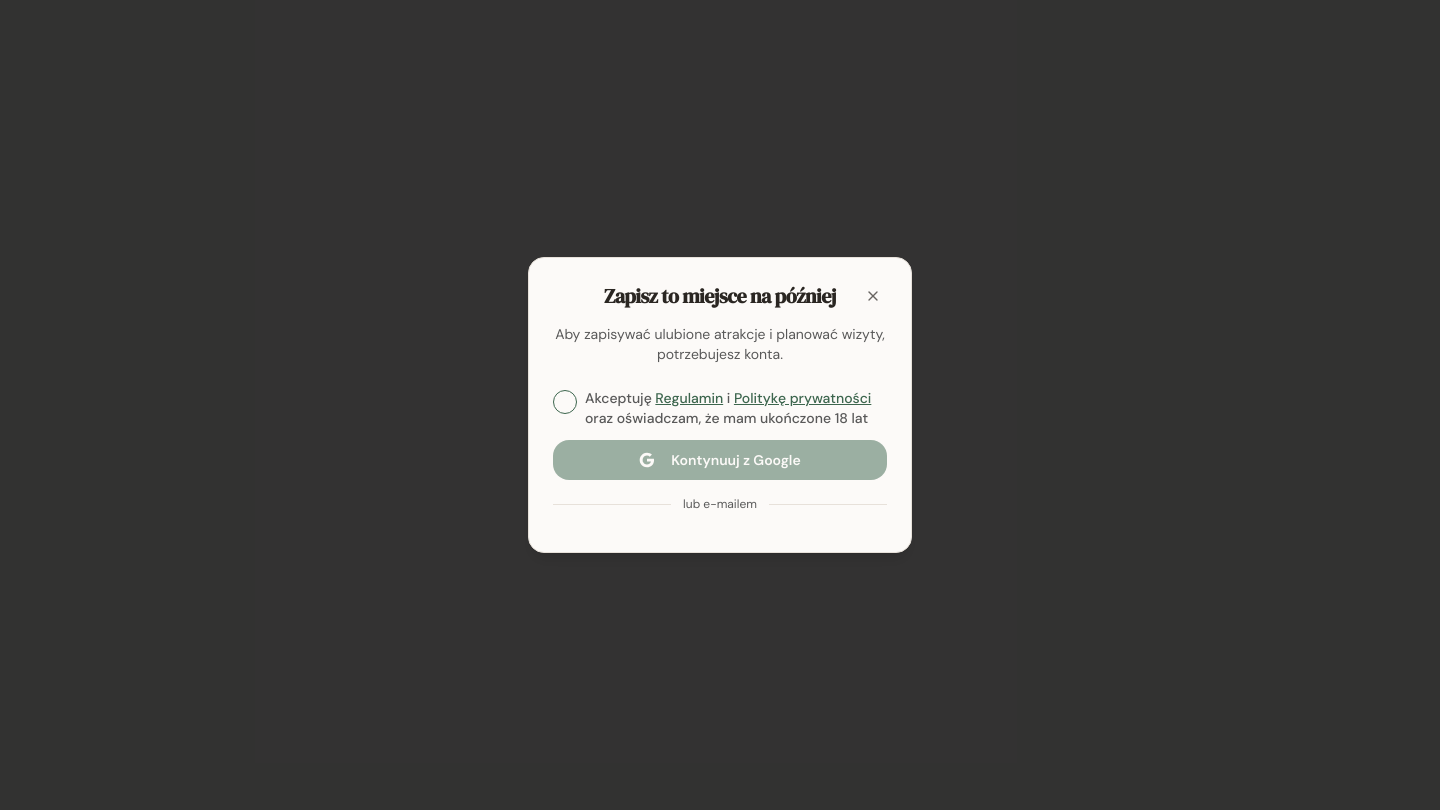
it: AF-7-059…062: logowanie Google w przegladarce wbudowanej w aplikacje › zwykla przegladarka: bez podpowiedzi, Google dziala po zgodzie
This screenshot has width=1440, height=810.
Later steps or results of the test are not shown.
Click the checkbox named "Akceptuję". click: {"x": 565, "y": 402}
box: [553,390,577,414]
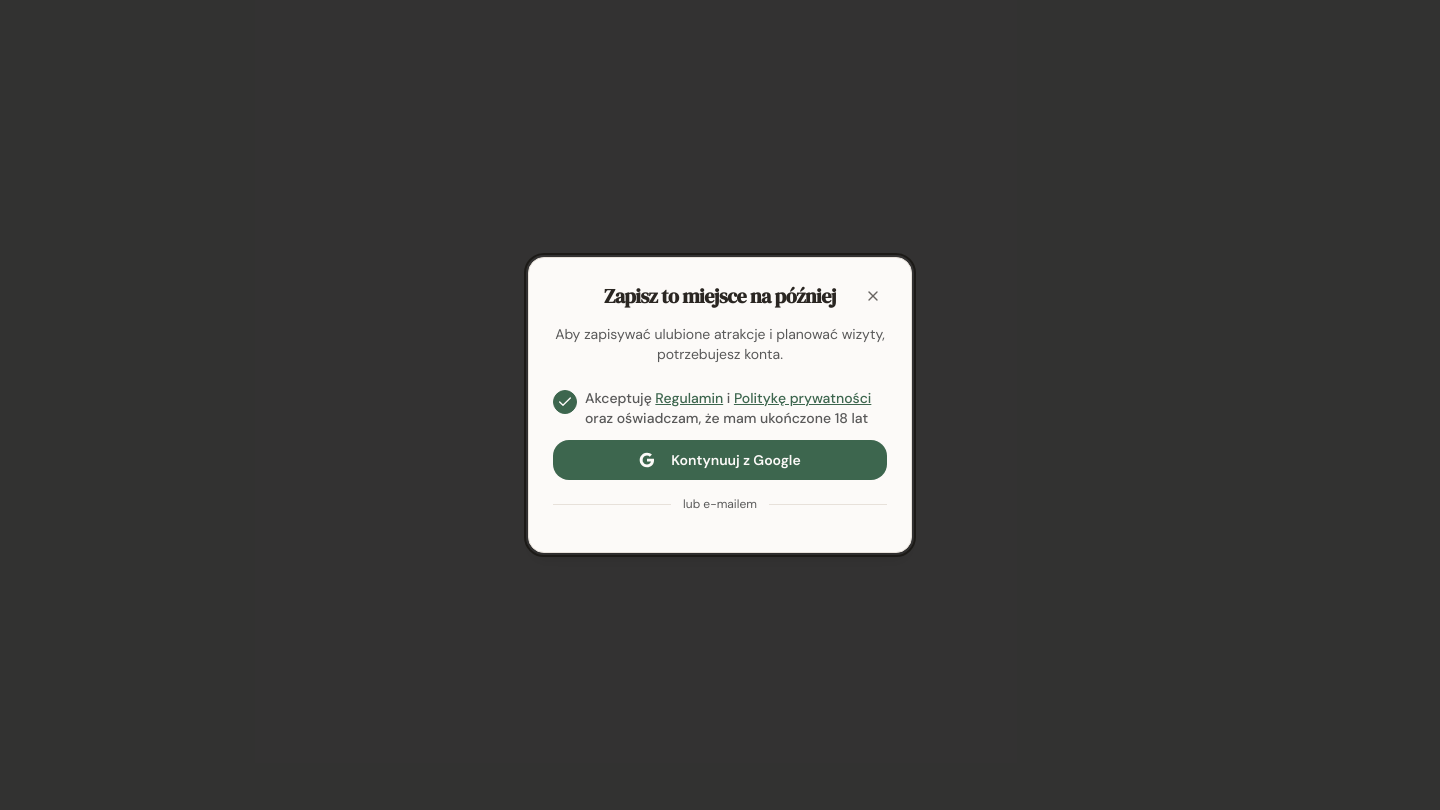
expect the button "Kontynuuj z Google" is enabled: met, box [553,440,887,480]
